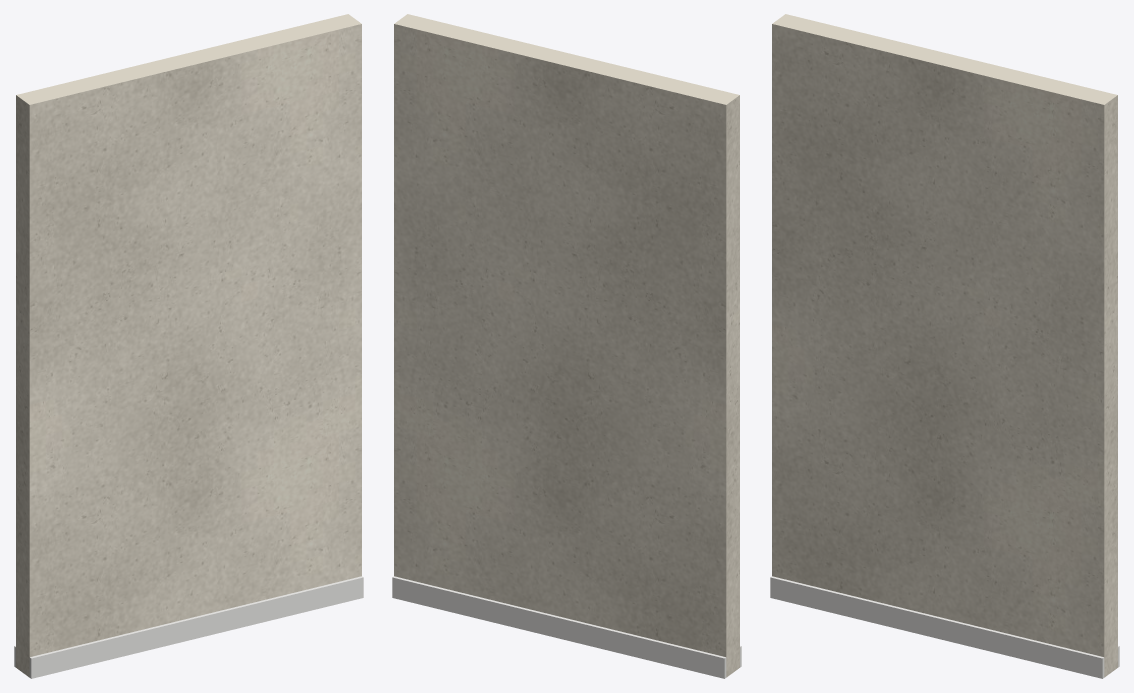
File: interior_wall_end.glb
The picture shows the model from 3 angles, left to right: view 1: azimuth 30°, elevation 25°; view 2: azimuth 150°, elevation 25°; view 3: azimuth 330°, elevation 25°; orthographic projection.
Visible parts, largest first — view 1: interior_wall_end_plaster, interior_wall_end_trim; view 2: interior_wall_end_plaster, interior_wall_end_trim; view 3: interior_wall_end_plaster, interior_wall_end_trim.
Part boxes in pixels (x1,y1,x2,y2): interior_wall_end_plaster: [16, 14, 361, 677]; interior_wall_end_trim: [14, 576, 363, 678]; interior_wall_end_plaster: [394, 14, 739, 677]; interior_wall_end_trim: [392, 576, 741, 678]; interior_wall_end_plaster: [772, 14, 1117, 677]; interior_wall_end_trim: [770, 576, 1119, 678].
Size of the model in its own units: 1.7 by 2.8 by 0.15.
Materials: 2 (1 with a texture image).
